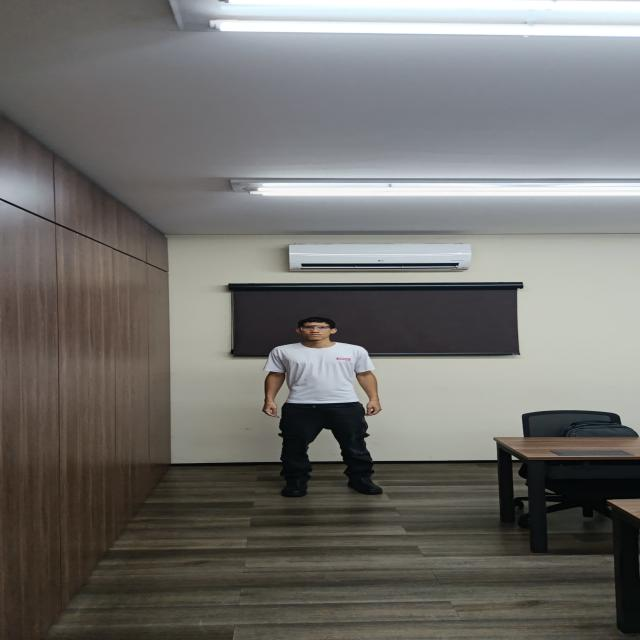sem_oculos: (300, 326, 331, 331)
